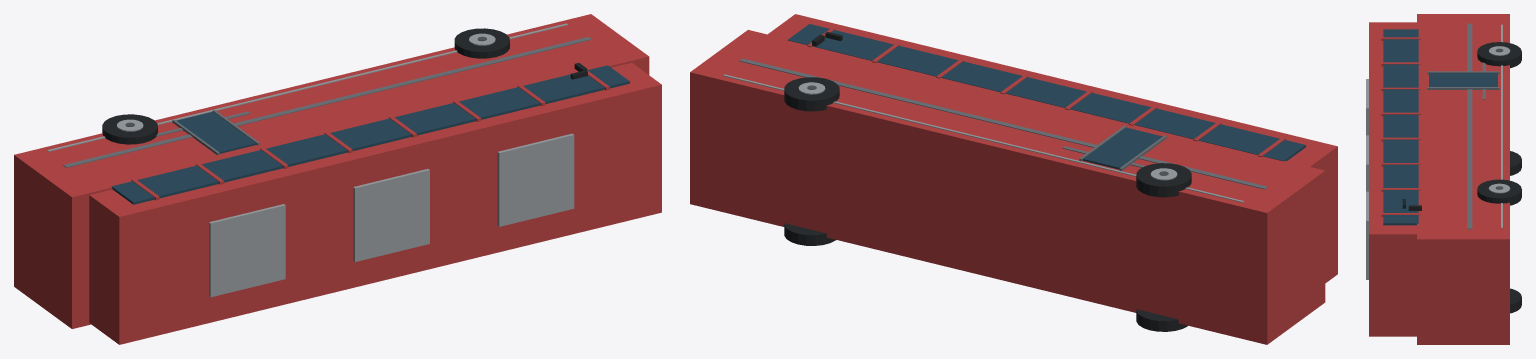
The model's file is RM_Bus_22.glb.
The picture shows the model from 3 angles, left to right: view 1: azimuth 30°, elevation 25°; view 2: azimuth 150°, elevation 25°; view 3: azimuth 270°, elevation 25°; orthographic projection. The views are drawn at different scales.
Visible parts, largest first — view 1: part_001, part_000, part_002, part_039, part_037, part_038, part_013, part_040, part_030, part_024, part_014; view 2: part_000, part_002, part_001, part_013, part_040, part_024, part_030, part_014, part_021, part_027; view 3: part_000, part_001, part_002, part_013, part_040, part_024, part_030, part_014, part_039, part_027, part_021, part_042 (+5 smaller).
Part boxes in pixels (x1=…): part_001: x1=89, y1=62, x2=661, y2=344; part_000: x1=14, y1=14, x2=649, y2=328; part_002: x1=111, y1=65, x2=629, y2=204; part_039: x1=497, y1=133, x2=574, y2=226; part_037: x1=209, y1=204, x2=285, y2=297; part_038: x1=353, y1=169, x2=429, y2=261; part_013: x1=63, y1=37, x2=591, y2=167; part_040: x1=176, y1=111, x2=256, y2=153; part_030: x1=454, y1=28, x2=509, y2=58; part_024: x1=102, y1=114, x2=157, y2=144; part_014: x1=47, y1=23, x2=567, y2=151; part_000: x1=690, y1=30, x2=1325, y2=344; part_002: x1=787, y1=24, x2=1305, y2=161; part_001: x1=767, y1=14, x2=1337, y2=283; part_013: x1=739, y1=58, x2=1267, y2=189; part_040: x1=1083, y1=127, x2=1162, y2=169; part_024: x1=1136, y1=163, x2=1191, y2=197; part_030: x1=784, y1=77, x2=839, y2=111; part_014: x1=723, y1=74, x2=1243, y2=202; part_021: x1=1136, y1=309, x2=1187, y2=331; part_027: x1=784, y1=223, x2=835, y2=245; part_000: x1=1417, y1=14, x2=1509, y2=344; part_001: x1=1369, y1=22, x2=1416, y2=336; part_002: x1=1383, y1=29, x2=1418, y2=225; part_013: x1=1467, y1=23, x2=1472, y2=229; part_040: x1=1429, y1=73, x2=1497, y2=86; part_024: x1=1477, y1=42, x2=1521, y2=68; part_030: x1=1477, y1=179, x2=1521, y2=205; part_014: x1=1501, y1=24, x2=1502, y2=227; part_039: x1=1366, y1=191, x2=1368, y2=279; part_027: x1=1510, y1=288, x2=1521, y2=313; part_021: x1=1510, y1=151, x2=1521, y2=175; part_042: x1=1427, y1=87, x2=1499, y2=89.
Bounding box in the file's own units: 11.22 × 2.77 × 3.28.
